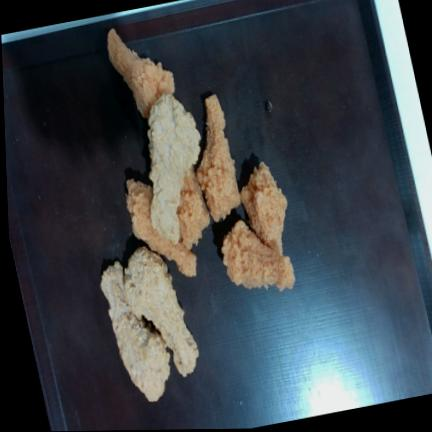chicken: (101, 262, 170, 401), (125, 247, 199, 376), (148, 94, 201, 243), (126, 179, 197, 277), (108, 29, 175, 118), (197, 95, 241, 221), (222, 220, 294, 290), (241, 162, 287, 255)
